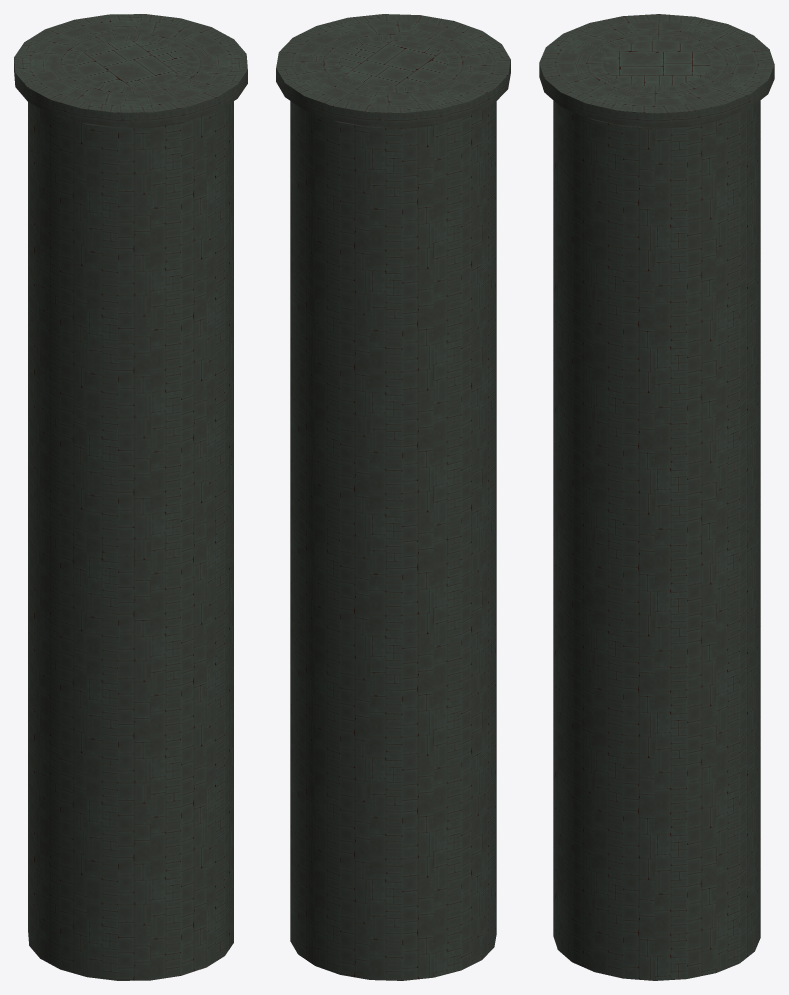
File: SM_SpawnTower.fbx
The picture shows the model from 3 angles, left to right: view 1: azimuth 30°, elevation 25°; view 2: azimuth 150°, elevation 25°; view 3: azimuth 270°, elevation 25°; orthographic projection.
Parts seen in each view (by area): view 1: SM_SpawnTower; view 2: SM_SpawnTower; view 3: SM_SpawnTower.
Boxes of the visible parts, x1,y1,x2,y2 form: SM_SpawnTower: (14, 14, 247, 980); SM_SpawnTower: (276, 14, 510, 980); SM_SpawnTower: (539, 14, 774, 980).
Bounding box in the file's own units: 1500 × 6139 × 1500.
Materials: 1 (1 with a texture image).
